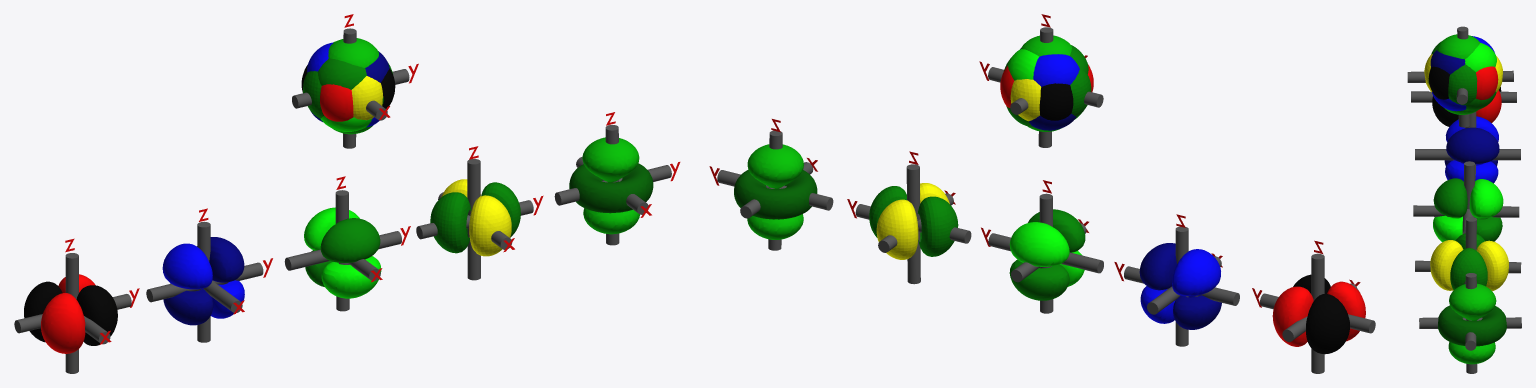
The model's file is d_orbitals.glb.
The picture shows the model from 3 angles, left to right: view 1: azimuth 30°, elevation 25°; view 2: azimuth 150°, elevation 25°; view 3: azimuth 270°, elevation 25°; orthographic projection. The views are drawn at different scales.
Parts seen in each view (by area): view 1: dz2.001_8, dzx.001_11, dx2-y2.001_2, dzy.001_14, dxy.001_5, Axes.002_10, Axes.005_1, Axes.001_13, Axes.004_4, dxy_18, dzy_21, dx2-y2_17 (+4 smaller); view 2: dz2.001_8, dzx.001_11, dzy.001_14, dx2-y2.001_2, dxy.001_5, Axes.005_1, Axes.002_10, Axes.004_4, Axes.001_13, dzx_20, dxy_18, dx2-y2_17 (+4 smaller); view 3: dz2.001_8, dzy.001_14, dx2-y2.001_2, dzx.001_11, dxy_18, dx2-y2_17, Axes.001_13, Axes.003_7, dzy_21, dz2_19, Axes.002_10, dzx_20 (+4 smaller).
Boxes of the visible parts, <box> form: dz2.001_8: <box>569,137,653,234</box>; dzx.001_11: <box>162,237,244,325</box>; dx2-y2.001_2: <box>430,179,520,256</box>; dzy.001_14: <box>304,207,381,298</box>; dxy.001_5: <box>24,274,117,353</box>; Axes.002_10: <box>146,221,263,342</box>; Axes.005_1: <box>416,159,533,280</box>; Axes.001_13: <box>284,190,401,311</box>; Axes.004_4: <box>14,253,131,373</box>; dxy_18: <box>301,65,395,121</box>; dzy_21: <box>317,40,372,131</box>; dx2-y2_17: <box>303,63,393,120</box>; dz2.001_8: <box>734,144,817,239</box>; dzx.001_11: <box>1139,243,1221,329</box>; dzy.001_14: <box>1009,209,1085,300</box>; dx2-y2.001_2: <box>869,183,958,259</box>; dxy.001_5: <box>1272,274,1365,354</box>; Axes.005_1: <box>855,164,971,284</box>; Axes.002_10: <box>1124,226,1239,346</box>; Axes.004_4: <box>1260,253,1375,373</box>; Axes.001_13: <box>988,193,1103,313</box>; dzx_20: <box>1020,48,1079,130</box>; dxy_18: <box>1000,64,1093,120</box>; dx2-y2_17: <box>1004,57,1091,121</box>; dz2.001_8: <box>1438,283,1506,364</box>; dzy.001_14: <box>1433,178,1503,242</box>; dx2-y2.001_2: <box>1430,233,1508,291</box>; dzx.001_11: <box>1444,116,1499,183</box>; dxy_18: <box>1428,66,1498,99</box>; dx2-y2_17: <box>1424,54,1502,105</box>; Axes.001_13: <box>1413,161,1519,233</box>; Axes.003_7: <box>1419,273,1521,373</box>; dzy_21: <box>1431,41,1496,110</box>; dz2_19: <box>1428,34,1480,114</box>; Axes.002_10: <box>1415,112,1520,179</box>; dzx_20: <box>1430,36,1494,111</box>.
Size of the model in its own units: 5.44 by 2.32 by 1.
